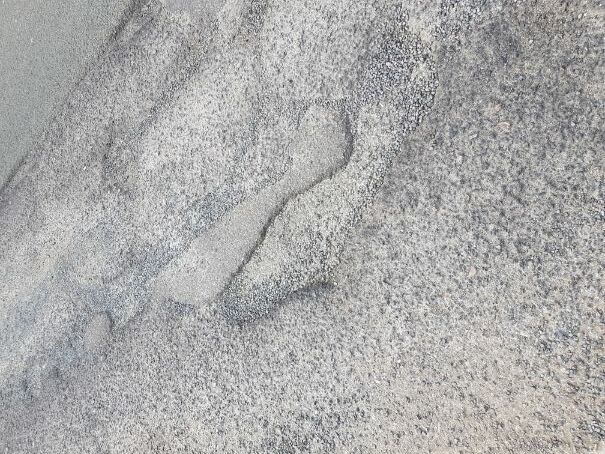pothole: (213, 87, 427, 332)
